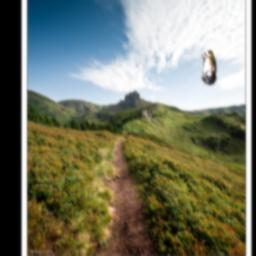Swallow: (201, 52, 217, 86)
